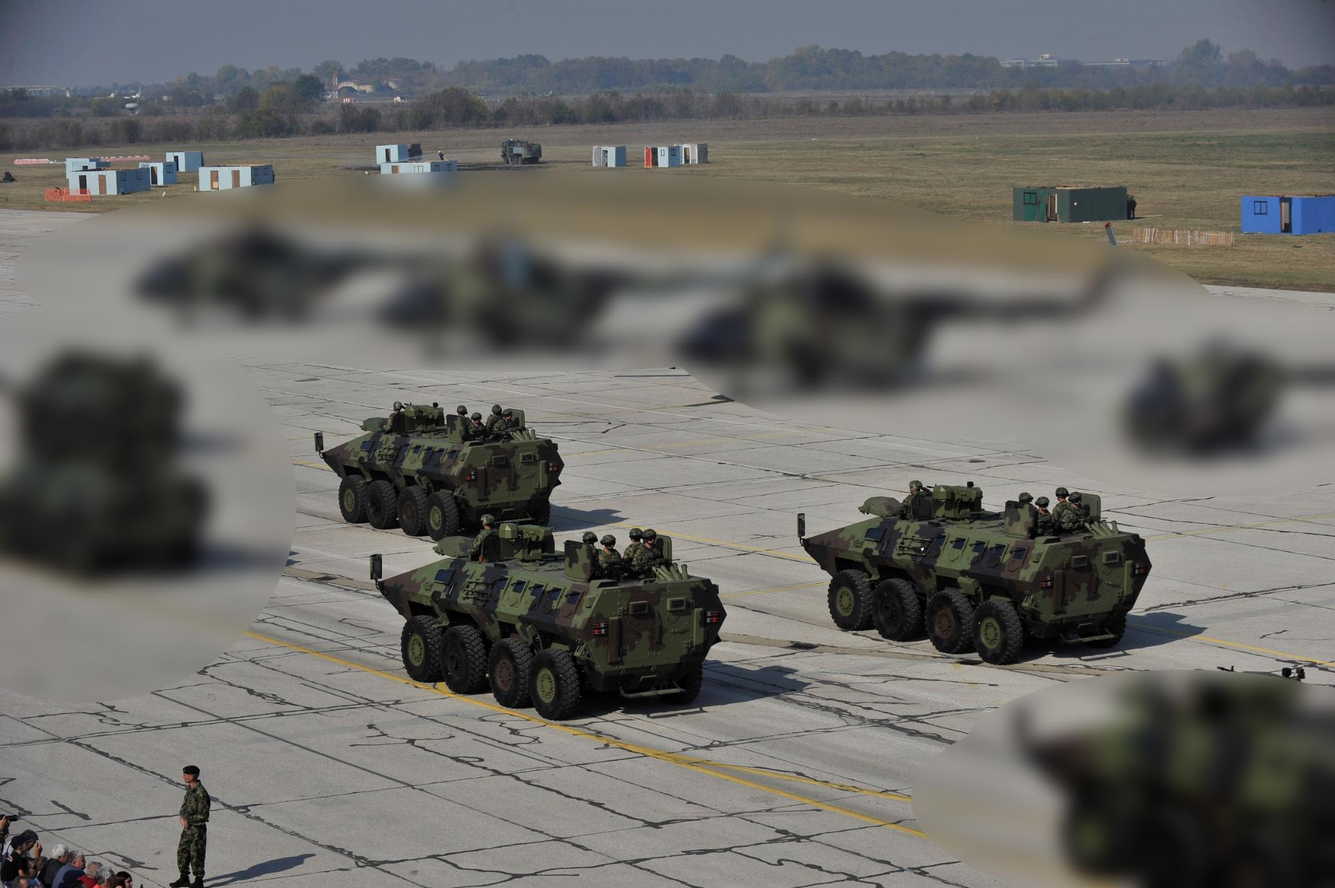armored_car: (373, 532, 727, 721), (798, 480, 1153, 664), (319, 401, 565, 538)
